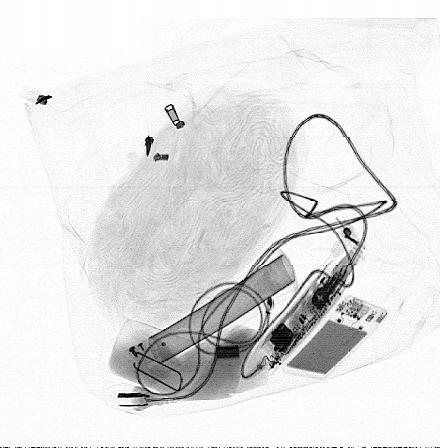Powerbank: (282, 295, 389, 380)
